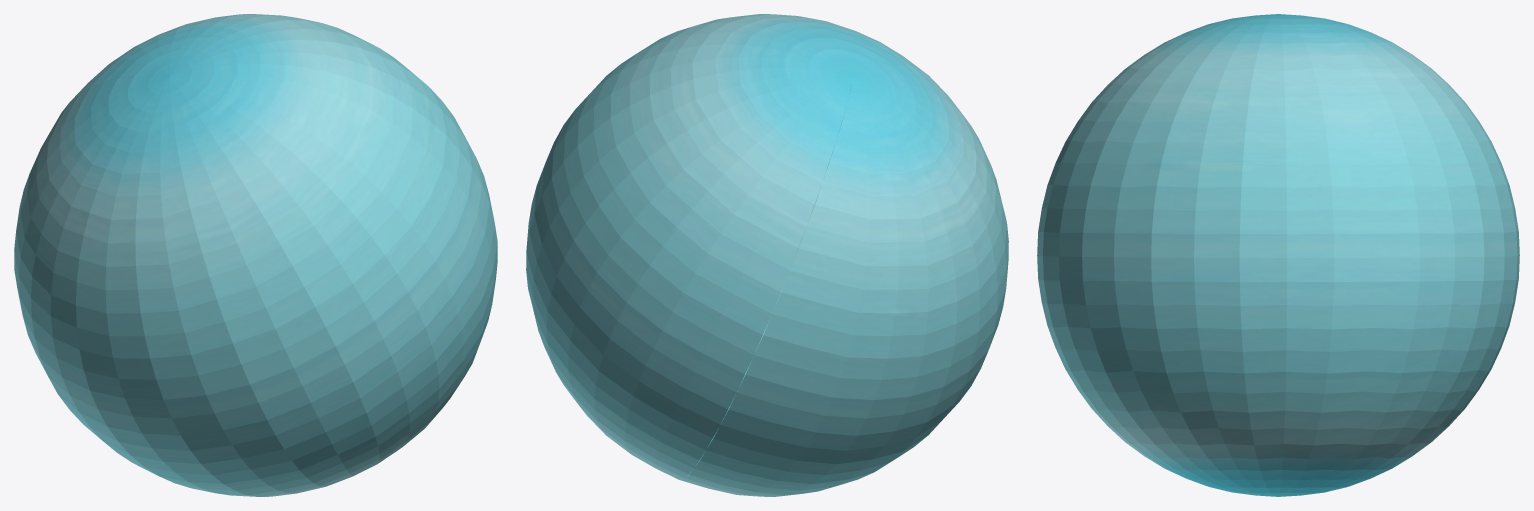
The model's file is planetRound.obj.
3 renders of one model, left to right at view 1: azimuth 30°, elevation 25°; view 2: azimuth 150°, elevation 25°; view 3: azimuth 270°, elevation 25°, orthographic.
Visible parts, largest first — view 1: Plane; view 2: Plane; view 3: Plane.
Boxes of the visible parts, x1=… form: Plane: x1=14, y1=14, x2=497, y2=496; Plane: x1=526, y1=14, x2=1008, y2=496; Plane: x1=1037, y1=14, x2=1519, y2=496.
Bounding box in the file's own units: 5.44 × 5.44 × 5.44.
